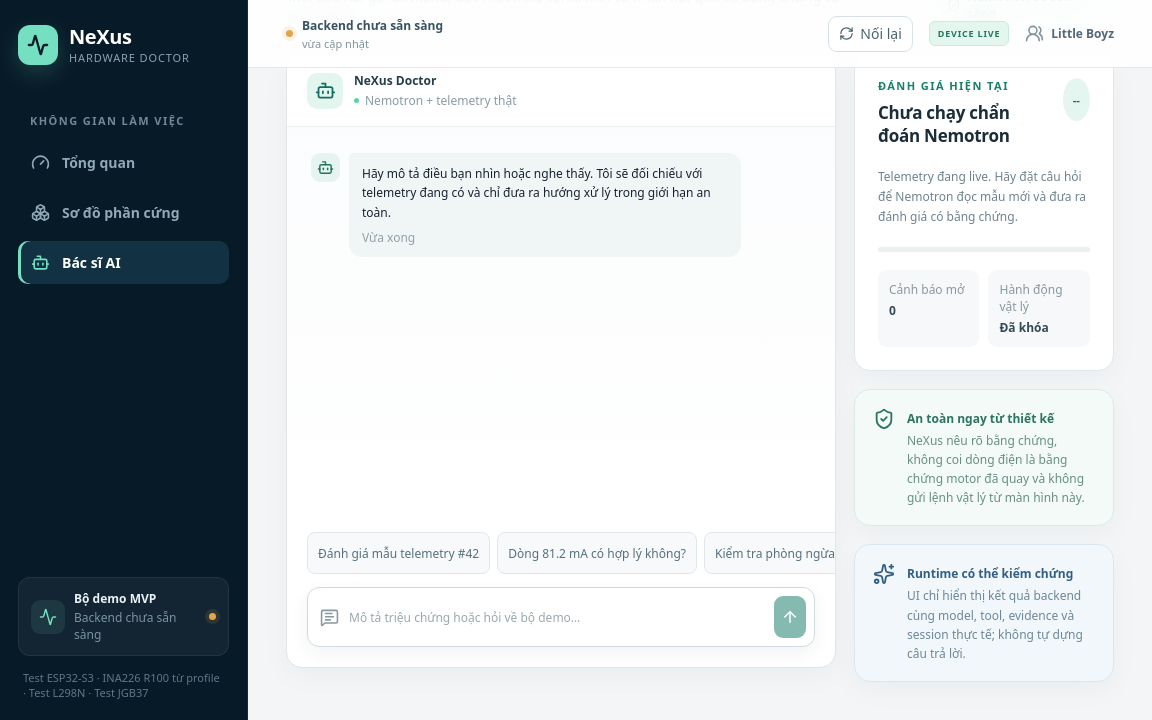
NeXus application routes › renders a real backend diagnosis instead of a browser-generated answer
(page scrolled)
Type "Motor có an toàn không?" into the field named "Hỏi Bác sĩ AI" at (556, 617), box [349,604,764,631]
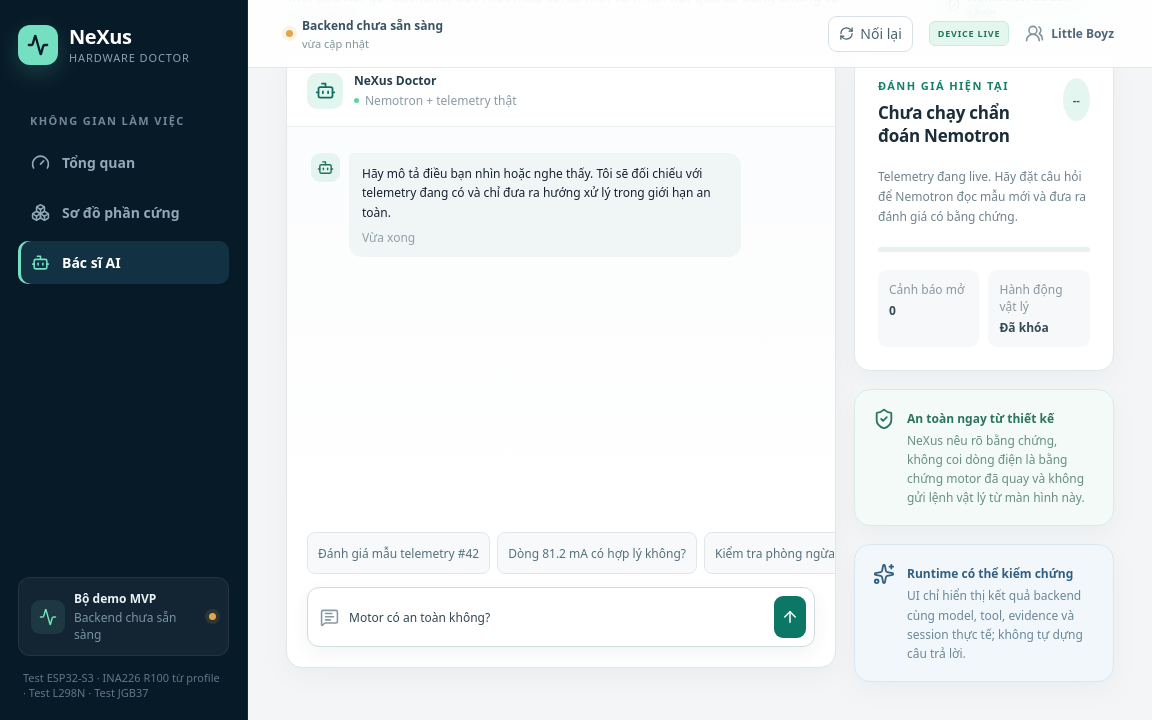
Click the button named "Gửi câu hỏi" at (790, 617), box [774,596,806,638]
(page scrolled)
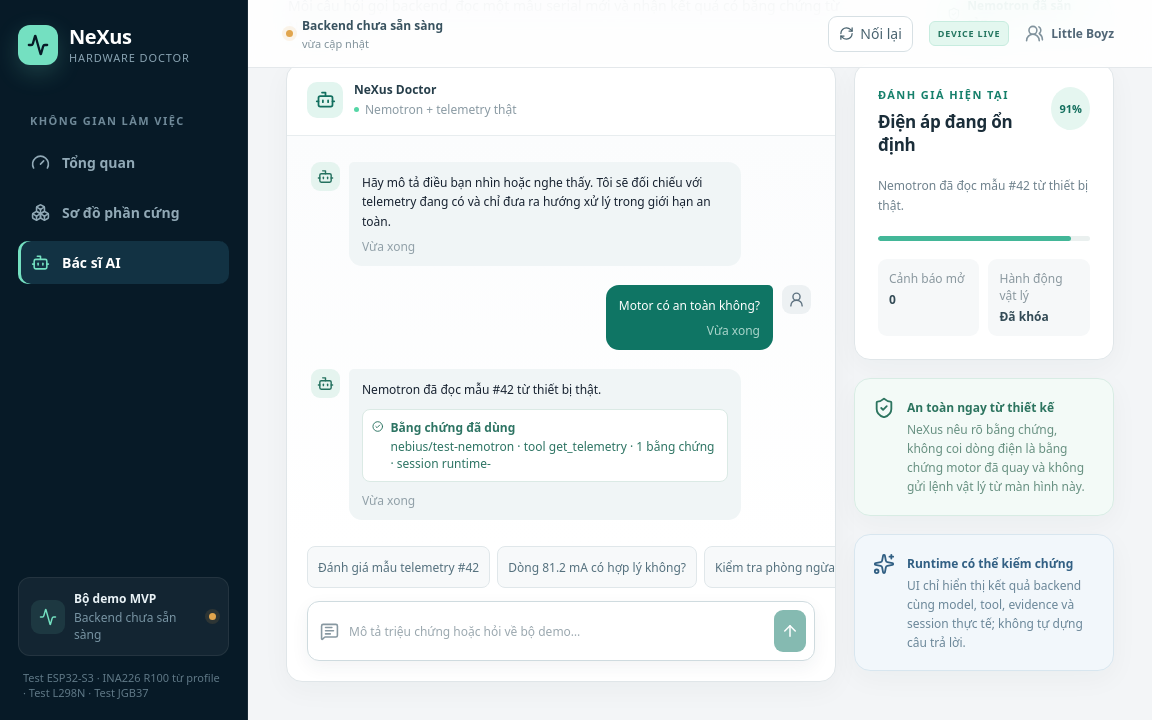
Expected: the text "Motor có an toàn không?" is shown, [619,296,760,315]
Expected: the text "Nemotron đã đọc mẫu #42 từ thiết bị thật." is shown 2 times, [362,381,601,398]; [878,176,1090,216]
Expected: the text "nebius/test-nemotron" is shown, [390,438,714,472]
